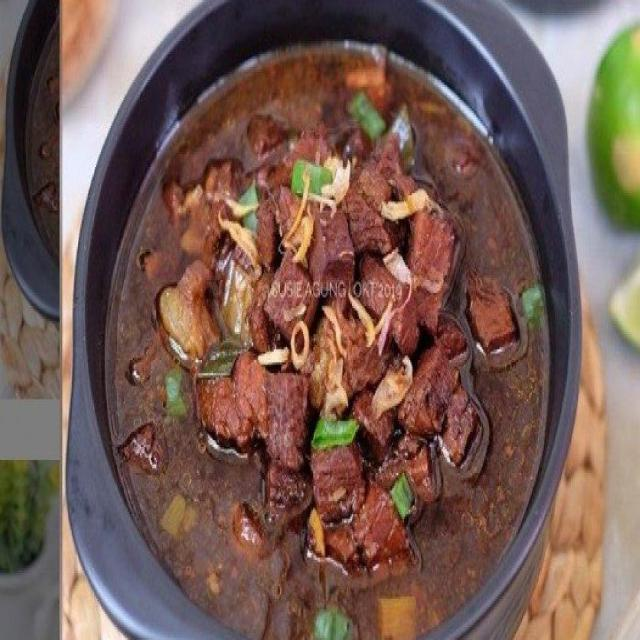Rawon: (141, 59, 530, 622)
